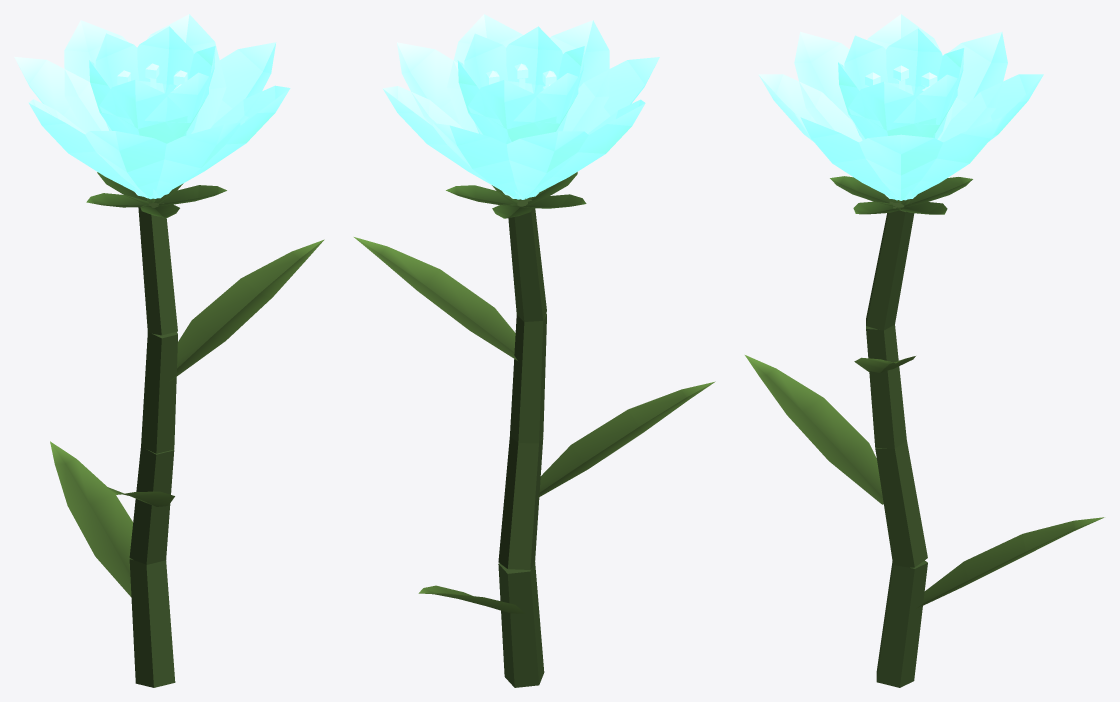
File: crop_moonflower_stage2.glb
3 renders of one model, left to right at view 1: azimuth 30°, elevation 25°; view 2: azimuth 150°, elevation 25°; view 3: azimuth 270°, elevation 25°, orthographic.
Visible parts, largest first — view 1: Crop; view 2: Crop; view 3: Crop.
Boxes of the visible parts, x1,y1,x2,y2 form: Crop: [14, 14, 324, 687]; Crop: [354, 14, 715, 687]; Crop: [745, 14, 1104, 687].
Size of the model in its own units: 0.2595 by 0.5294 by 0.2767.
